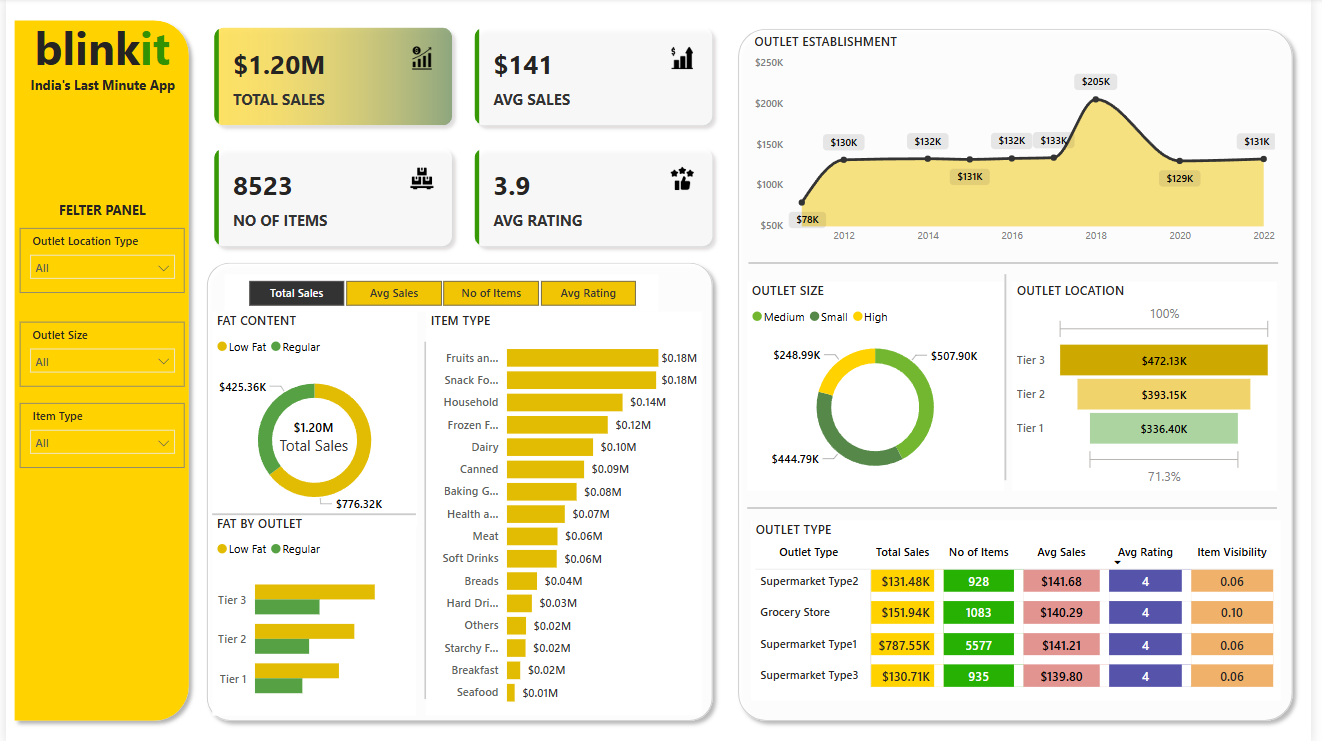

Layout of this report page (visuals, bound fields, positions):
{"tool":"powerbi","page":{"name":"Page 1","canvas":[1400,800],"ordinal":0},"visuals":[{"type":"shape","box":[0,14.7,205.1,769.4],"z":0},{"type":"textbox","box":[14.7,14.7,176.9,79.1],"z":1000},{"type":"textbox","box":[1.3,79.1,205.1,30.8],"z":2000},{"type":"cardVisual","fields":{"Data":["BlinkIT Grocery Data.Total Sales","BlinkIT Grocery Data.Avg Sales","BlinkIT Grocery Data.No of Items","BlinkIT Grocery Data.Avg Rating"]},"box":[206.4,14.7,569.7,269.4],"z":3000},{"type":"shape","box":[206.4,274.8,560.3,509.4],"z":4000},{"type":"donutChart","title":"FAT CONTENT","fields":{"Y":["BlinkIT Grocery Data.Total Sales"],"Category":["BlinkIT Grocery Data.Item Fat Content"]},"box":[221.2,336.5,219.8,230.6],"z":5000},{"type":"slicer","fields":{"Values":["Metrics.Metrics"]},"box":[234.6,296.2,465.1,40.2],"z":6000},{"type":"cardVisual","fields":{"Data":["BlinkIT Grocery Data.Total Sales"]},"box":[269.4,434.3,122,64.3],"z":7000},{"type":"clusteredBarChart","title":"FAT BY OUTLET","fields":{"Y":["BlinkIT Grocery Data.Total Sales"],"Category":["BlinkIT Grocery Data.Outlet Location Type"],"Series":["BlinkIT Grocery Data.Item Fat Content"]},"box":[221.2,553.6,218.5,215.8],"z":8000},{"type":"shape","box":[221.2,533.5,218.5,40.2],"z":9000},{"type":"shape","box":[431.6,368.6,36.2,383.4],"z":10000},{"type":"barChart","title":"ITEM TYPE","fields":{"Y":["BlinkIT Grocery Data.Total Sales"],"Category":["BlinkIT Grocery Data.Item Type"]},"box":[450.4,336.5,296.2,433],"z":11000},{"type":"shape","box":[776.1,24.1,612.6,760.1],"z":12000},{"type":"lineChart","title":"OUTLET ESTABLISHMENT","fields":{"Y":["BlinkIT Grocery Data.Total Sales"],"Category":["BlinkIT Grocery Data.Outlet Establishment Year"]},"box":[797.6,37.5,568.4,234.6],"z":13000},{"type":"shape","box":[796.3,264.1,568.4,40.2],"z":14000},{"type":"donutChart","title":"OUTLET SIZE","fields":{"Y":["BlinkIT Grocery Data.Total Sales"],"Category":["BlinkIT Grocery Data.Outlet Size"]},"box":[794.9,304.3,274.8,223.9],"z":15000},{"type":"shape","box":[1053.6,296.2,36.2,221.2],"z":16000},{"type":"shape","box":[794.9,526.8,568.4,40.2],"z":17000},{"type":"funnel","title":"OUTLET LOCATION","fields":{"Y":["BlinkIT Grocery Data.Total Sales"],"Category":["BlinkIT Grocery Data.Outlet Location Type"]},"box":[1079.1,304.3,284.2,223.9],"z":18000},{"type":"pivotTable","title":"OUTLET TYPE","fields":{"Rows":["BlinkIT Grocery Data.Outlet Type"],"Values":["BlinkIT Grocery Data.Total Sales","BlinkIT Grocery Data.No of Items","BlinkIT Grocery Data.Avg Sales","BlinkIT Grocery Data.Avg Rating","Avg(BlinkIT Grocery Data.Item Visibility)"]},"box":[798.9,560.3,568.4,193],"z":19000},{"type":"slicer","fields":{"Values":["BlinkIT Grocery Data.Outlet Location Type"]},"box":[14.7,246.7,176.9,69.7],"z":20000},{"type":"slicer","fields":{"Values":["BlinkIT Grocery Data.Outlet Size"]},"box":[14.7,347.2,176.9,69.7],"z":20001},{"type":"slicer","fields":{"Values":["BlinkIT Grocery Data.Item Type"]},"box":[14.7,434.3,176.9,69.7],"z":20002},{"type":"textbox","box":[36.2,213.1,134,33.5],"z":20003}]}

Visuals, with their boxes in screenshot pixels (x1, y1, x2, y2), scaled from the page's 1400x800 canvas onto the 1322x741 screenshot:
shape: pyautogui.locateOnScreen(0, 14, 194, 726)
textbox: pyautogui.locateOnScreen(14, 14, 181, 87)
textbox: pyautogui.locateOnScreen(1, 73, 195, 102)
cardVisual - BlinkIT Grocery Data.Total Sales x BlinkIT Grocery Data.Avg Sales: pyautogui.locateOnScreen(195, 14, 733, 263)
shape: pyautogui.locateOnScreen(195, 255, 724, 726)
"FAT CONTENT" donutChart: pyautogui.locateOnScreen(209, 312, 416, 525)
slicer - Metrics.Metrics: pyautogui.locateOnScreen(222, 274, 661, 312)
cardVisual - BlinkIT Grocery Data.Total Sales: pyautogui.locateOnScreen(254, 402, 370, 462)
"FAT BY OUTLET" clusteredBarChart: pyautogui.locateOnScreen(209, 513, 415, 713)
shape: pyautogui.locateOnScreen(209, 494, 415, 531)
shape: pyautogui.locateOnScreen(408, 341, 442, 697)
"ITEM TYPE" barChart: pyautogui.locateOnScreen(425, 312, 705, 713)
shape: pyautogui.locateOnScreen(733, 22, 1311, 726)
"OUTLET ESTABLISHMENT" lineChart: pyautogui.locateOnScreen(753, 35, 1290, 252)
shape: pyautogui.locateOnScreen(752, 245, 1289, 282)
"OUTLET SIZE" donutChart: pyautogui.locateOnScreen(751, 282, 1010, 489)
shape: pyautogui.locateOnScreen(995, 274, 1029, 479)
shape: pyautogui.locateOnScreen(751, 488, 1287, 525)
"OUTLET LOCATION" funnel: pyautogui.locateOnScreen(1019, 282, 1287, 489)
"OUTLET TYPE" pivotTable: pyautogui.locateOnScreen(754, 519, 1291, 698)
slicer - BlinkIT Grocery Data.Outlet Location Type: pyautogui.locateOnScreen(14, 229, 181, 293)
slicer - BlinkIT Grocery Data.Outlet Size: pyautogui.locateOnScreen(14, 322, 181, 386)
slicer - BlinkIT Grocery Data.Item Type: pyautogui.locateOnScreen(14, 402, 181, 467)
textbox: pyautogui.locateOnScreen(34, 197, 161, 228)
